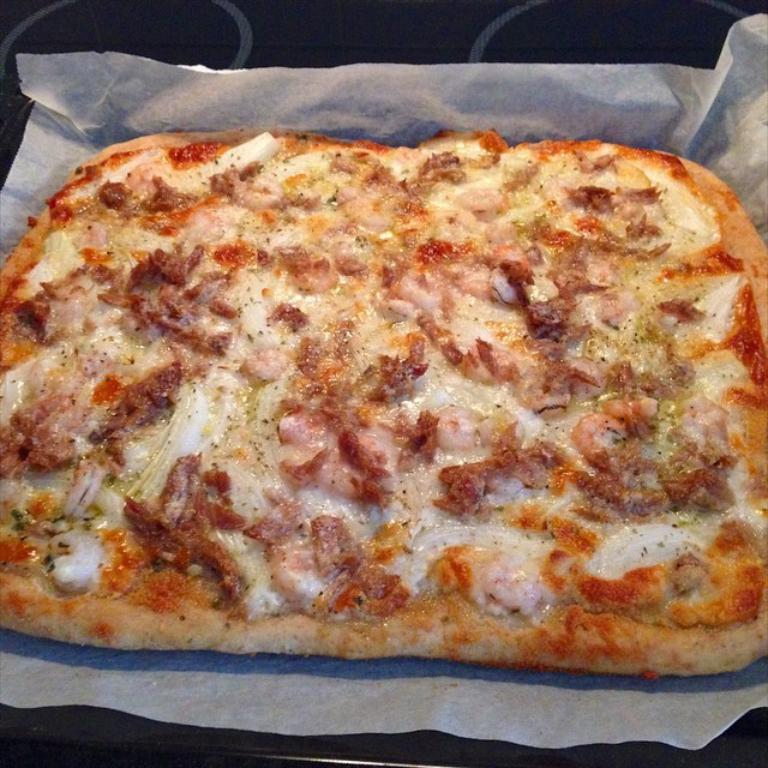Pizza: (0, 125, 766, 664)
